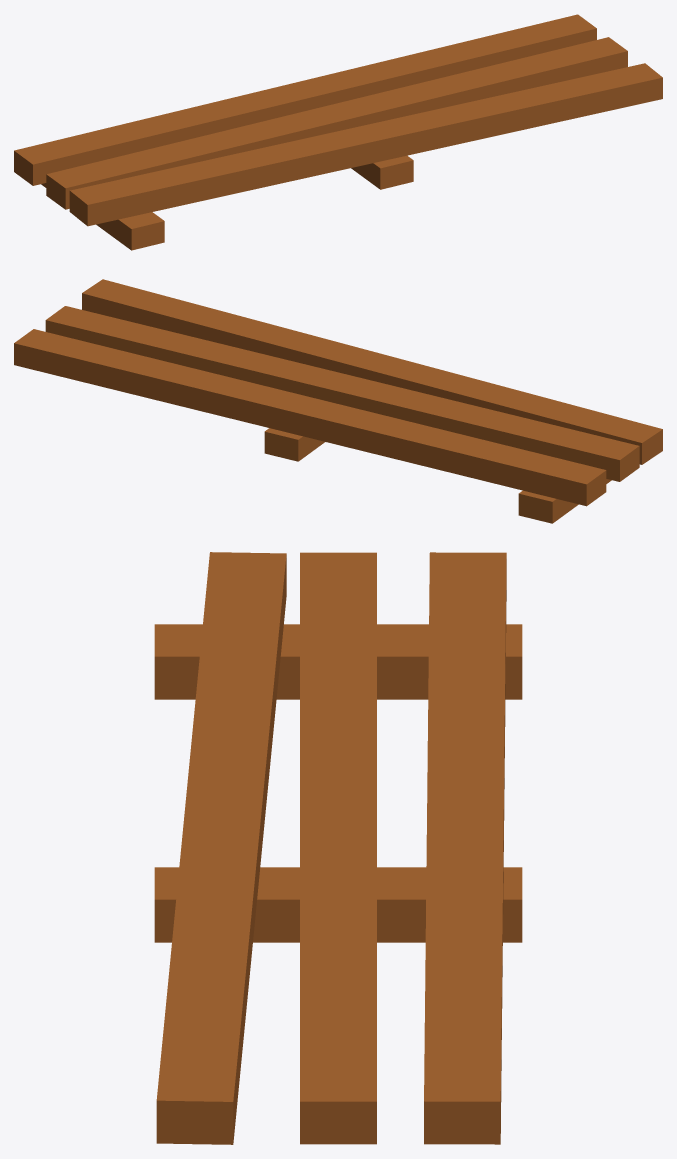
The model's file is трамплин.fbx.
The picture shows the model from 3 angles, top to bottom: view 1: azimuth 30°, elevation 25°; view 2: azimuth 150°, elevation 25°; view 3: azimuth 270°, elevation 25°; orthographic projection. The views are drawn at different scales.
Parts seen in each view (by area): view 1: Cube.004; view 2: Cube.004; view 3: Cube.004.
Part boxes in pixels (x1,y1,x2,y2): Cube.004: [14, 14, 662, 250]; Cube.004: [14, 279, 662, 523]; Cube.004: [154, 552, 522, 1144].
Size of the model in its own units: 2 by 0.1456 by 0.566.
